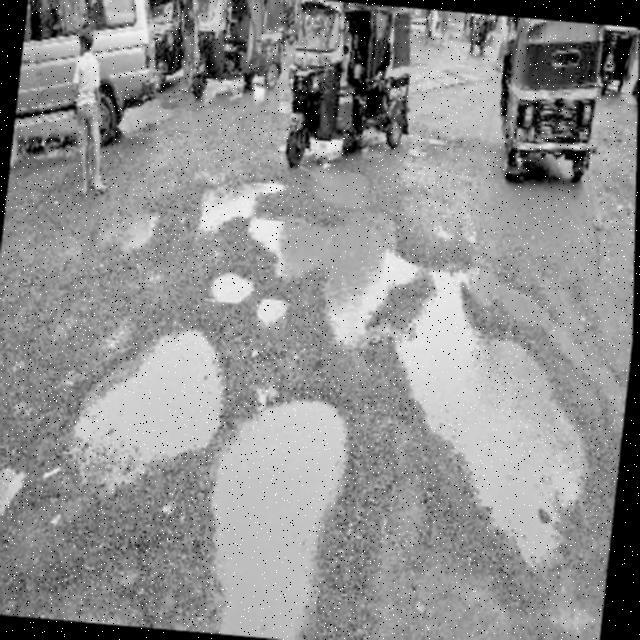pothole: (371, 248, 610, 578), (194, 379, 358, 640), (62, 308, 236, 508), (233, 198, 427, 356), (194, 168, 289, 246), (300, 158, 378, 214), (298, 160, 372, 214), (600, 339, 634, 435), (208, 261, 260, 308), (0, 461, 30, 521), (254, 288, 294, 329)
